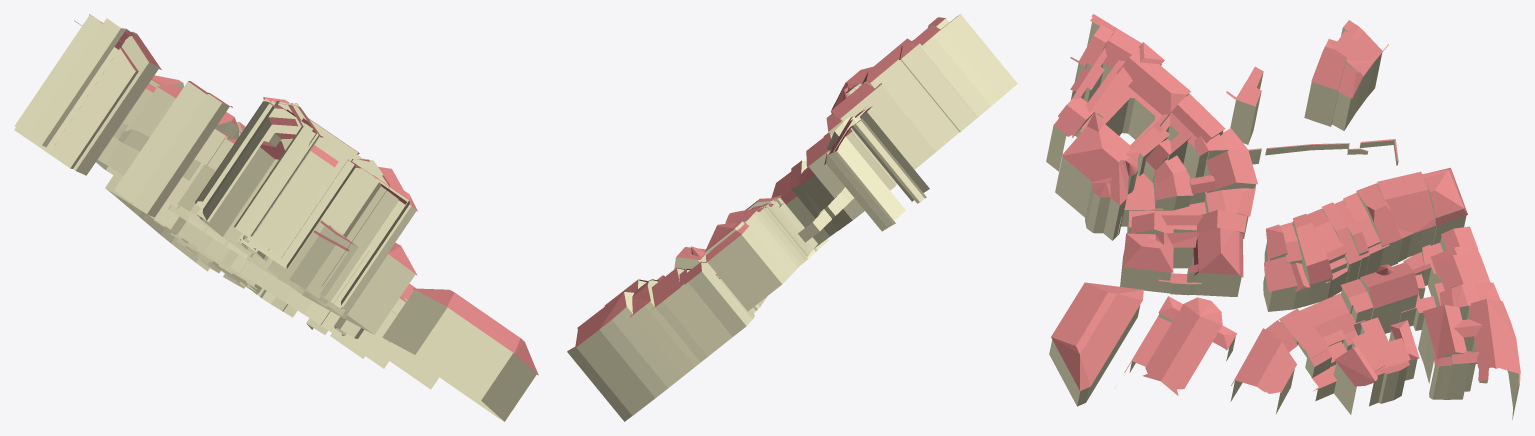
The model's file is tile_033.glb.
3 renders of one model, left to right at view 1: azimuth 30°, elevation 25°; view 2: azimuth 150°, elevation 25°; view 3: azimuth 270°, elevation 25°, orthographic. The views are drawn at different scales.
Visible parts, largest first — view 1: Batched_Building_ID_6517B480-C025-4121-8214-BE3FA9E50B9D, Batched_Building_ID_63CE5AF4-20D5-4C27-8E6A-2C204B598A3B; view 2: Batched_Building_ID_6517B480-C025-4121-8214-BE3FA9E50B9D, Batched_Building_ID_63CE5AF4-20D5-4C27-8E6A-2C204B598A3B; view 3: Batched_Building_ID_63CE5AF4-20D5-4C27-8E6A-2C204B598A3B, Batched_Building_ID_6517B480-C025-4121-8214-BE3FA9E50B9D.
Boxes of the visible parts, left/top/right/bottom form: Batched_Building_ID_6517B480-C025-4121-8214-BE3FA9E50B9D: left=14, top=14, right=536, bottom=421; Batched_Building_ID_63CE5AF4-20D5-4C27-8E6A-2C204B598A3B: left=74, top=14, right=538, bottom=375; Batched_Building_ID_6517B480-C025-4121-8214-BE3FA9E50B9D: left=567, top=14, right=1017, bottom=421; Batched_Building_ID_63CE5AF4-20D5-4C27-8E6A-2C204B598A3B: left=567, top=15, right=958, bottom=351; Batched_Building_ID_63CE5AF4-20D5-4C27-8E6A-2C204B598A3B: left=1051, top=14, right=1520, bottom=395; Batched_Building_ID_6517B480-C025-4121-8214-BE3FA9E50B9D: left=1046, top=22, right=1519, bottom=419.
Size of the model in its own units: 118 by 121 by 157.
